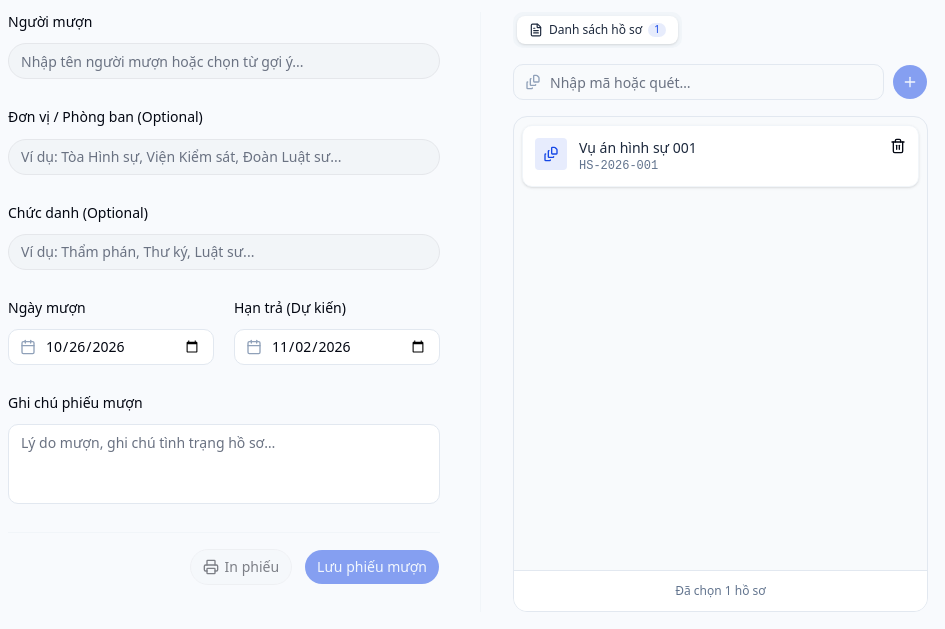
Test case: BorrowForm External Borrower Support › auto-fills unit when selecting an internal user from suggestions
The image size is (945, 629).
Type "Nguyễn Văn A" into the field labelled "Người mượn" at (224, 61), box [8, 43, 440, 79]
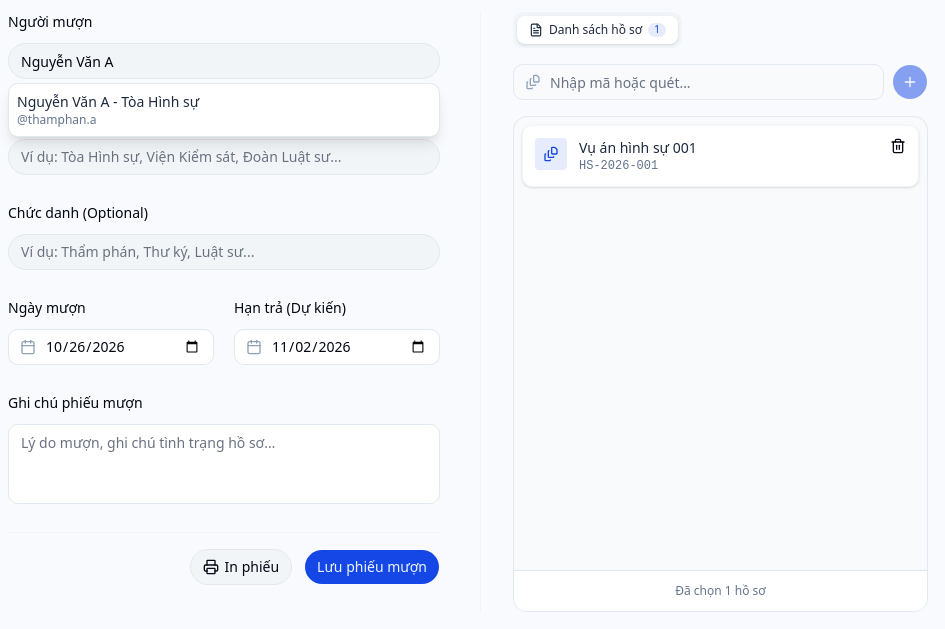
Click the text "Nguyễn Văn A - Tòa Hình sự" at (108, 102), box [17, 92, 199, 111]
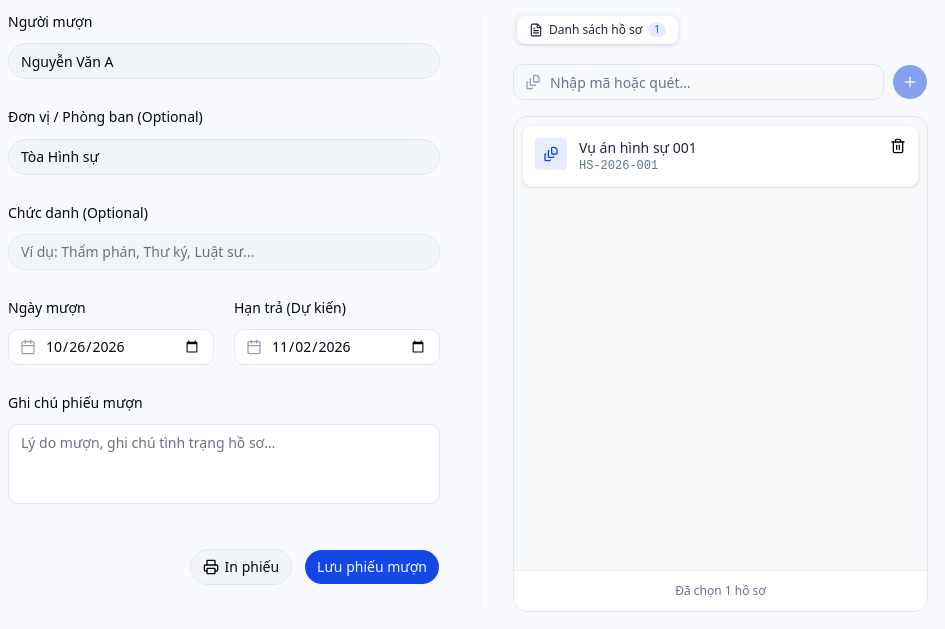
Check: the field labelled "Đơn vị / Phòng ban (Optional)" holds "Tòa Hình sự", box [8, 138, 440, 174]
